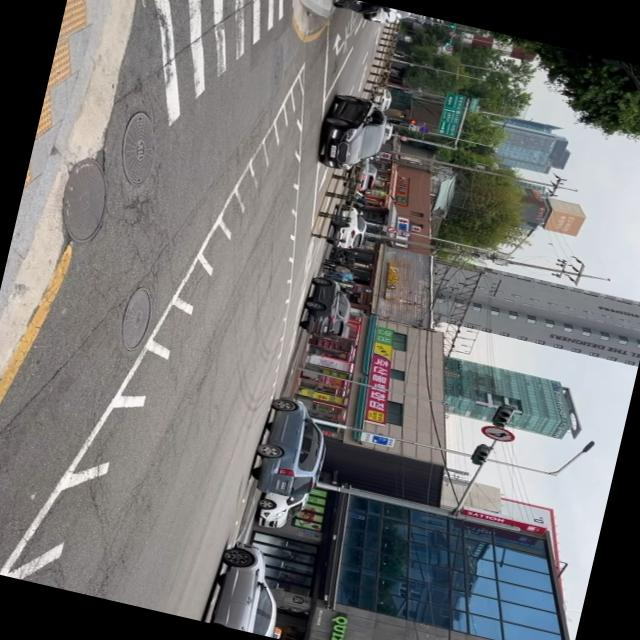building: (229, 458, 599, 640), (419, 253, 640, 368), (442, 88, 610, 210), (432, 354, 590, 444)
car: (224, 376, 362, 516), (205, 538, 292, 638), (313, 90, 392, 177), (296, 274, 356, 342)
